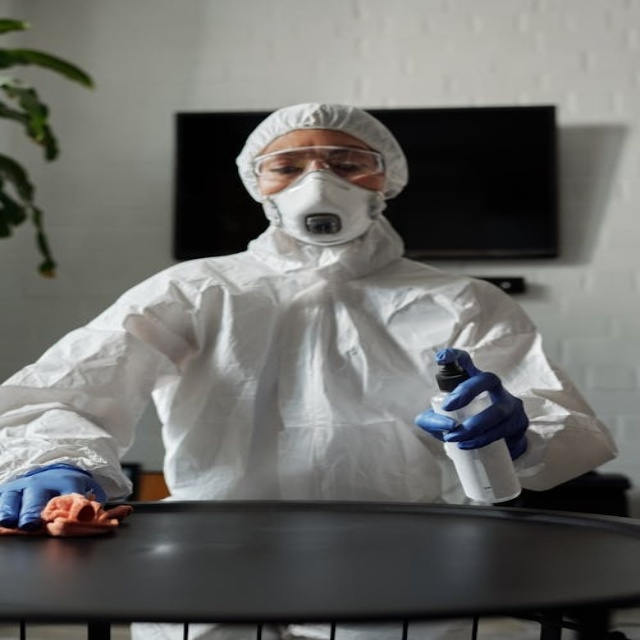Gafas: (252, 145, 388, 181)
Guantes: (413, 348, 524, 463), (4, 470, 105, 541)
Mascara: (264, 168, 382, 245)
